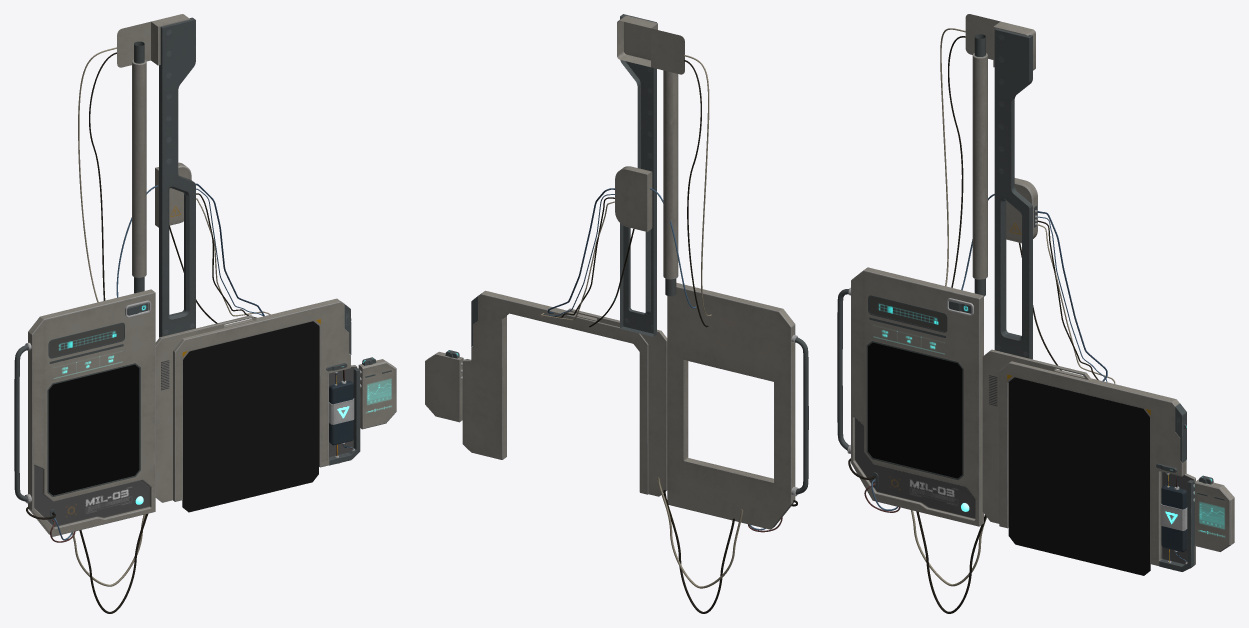
File: sci-fi_display_3.glb
3 renders of one model, left to right at view 1: azimuth 30°, elevation 25°; view 2: azimuth 150°, elevation 25°; view 3: azimuth 330°, elevation 25°, orthographic. The views are drawn at different scales.
Visible parts, largest first — view 1: Body, Big_Display, Small_Display; view 2: Body; view 3: Body, Big_Display, Small_Display.
Boxes of the visible parts, x1,y1,x2,y2 form: Body: (14,14,396,613); Big_Display: (182,321,318,512); Small_Display: (48,364,139,495); Body: (425,14,808,613); Body: (837,14,1234,613); Big_Display: (1008,377,1150,575); Small_Display: (868,342,962,478).
Size of the model in its own units: 1.53 by 2.21 by 0.1756.
Materials: 3 (1 with a texture image).
